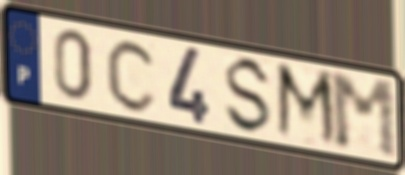0: (50, 26, 98, 105)
4: (166, 44, 217, 129)
C: (104, 36, 160, 115)
M: (327, 70, 402, 162), (273, 58, 341, 153)
S: (221, 54, 275, 137)
